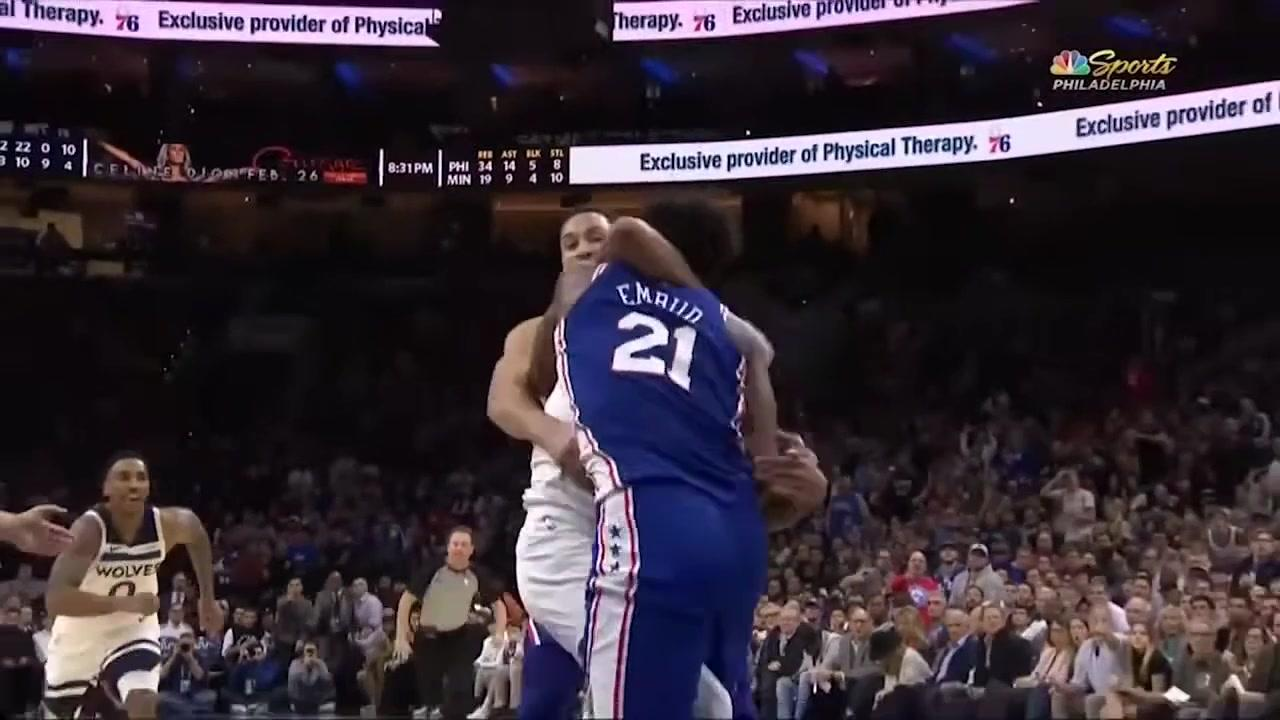foul: (444, 187, 818, 704)
